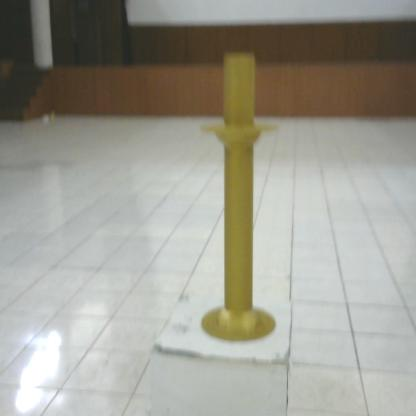pole: (192, 44, 283, 353)
